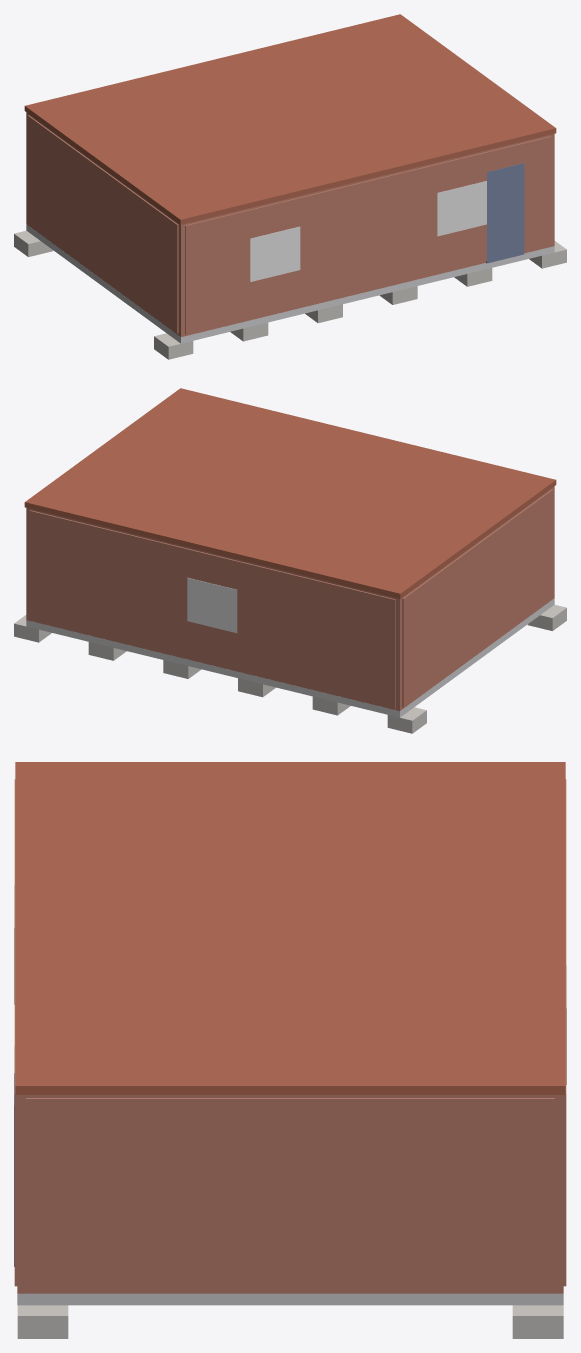
The model's file is Studio-30-Base-OxidisedRed-LOD2.glb.
The picture shows the model from 3 angles, top to bottom: view 1: azimuth 30°, elevation 25°; view 2: azimuth 150°, elevation 25°; view 3: azimuth 270°, elevation 25°; orthographic projection. The views are drawn at different scales.
Visible parts, largest first — view 1: RoofMain, ExteriorPanelsStandard, WindowsStandard, BaseFrame, FoundationBlocks, ExteriorShell, EntryDoor; view 2: RoofMain, ExteriorPanelsStandard, BaseFrame, ExteriorShell, FoundationBlocks, WindowsStandard; view 3: RoofMain, ExteriorPanelsStandard, BaseFrame, ExteriorShell, FoundationBlocks.
Part boxes in pixels (box(x1,y1,x2,y2)): RoofMain: box(24, 14, 556, 224); ExteriorPanelsStandard: box(27, 115, 550, 334); WindowsStandard: box(250, 181, 486, 281); BaseFrame: box(26, 224, 554, 343); FoundationBlocks: box(14, 230, 566, 359); ExteriorShell: box(26, 112, 554, 336); EntryDoor: box(486, 163, 524, 263); RoofMain: box(24, 388, 556, 598); ExteriorPanelsStandard: box(30, 489, 553, 708); BaseFrame: box(26, 598, 554, 717); ExteriorShell: box(26, 486, 554, 710); FoundationBlocks: box(14, 604, 566, 733); WindowsStandard: box(187, 577, 237, 633); RoofMain: box(15, 762, 565, 1094); ExteriorPanelsStandard: box(14, 779, 566, 1290); BaseFrame: box(17, 1293, 563, 1305); ExteriorShell: box(17, 1095, 563, 1293); FoundationBlocks: box(17, 1305, 563, 1338).
Size of the model in its own units: 9.6 by 3.17 by 6.53.
